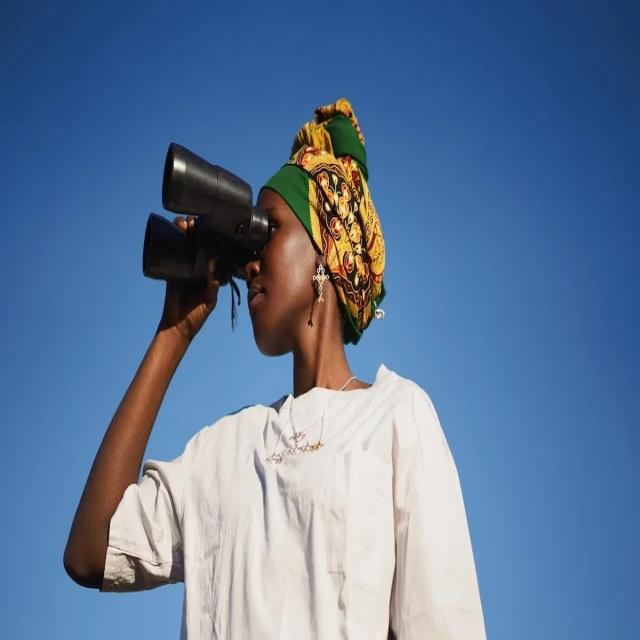Binocular: (101, 131, 287, 303)
